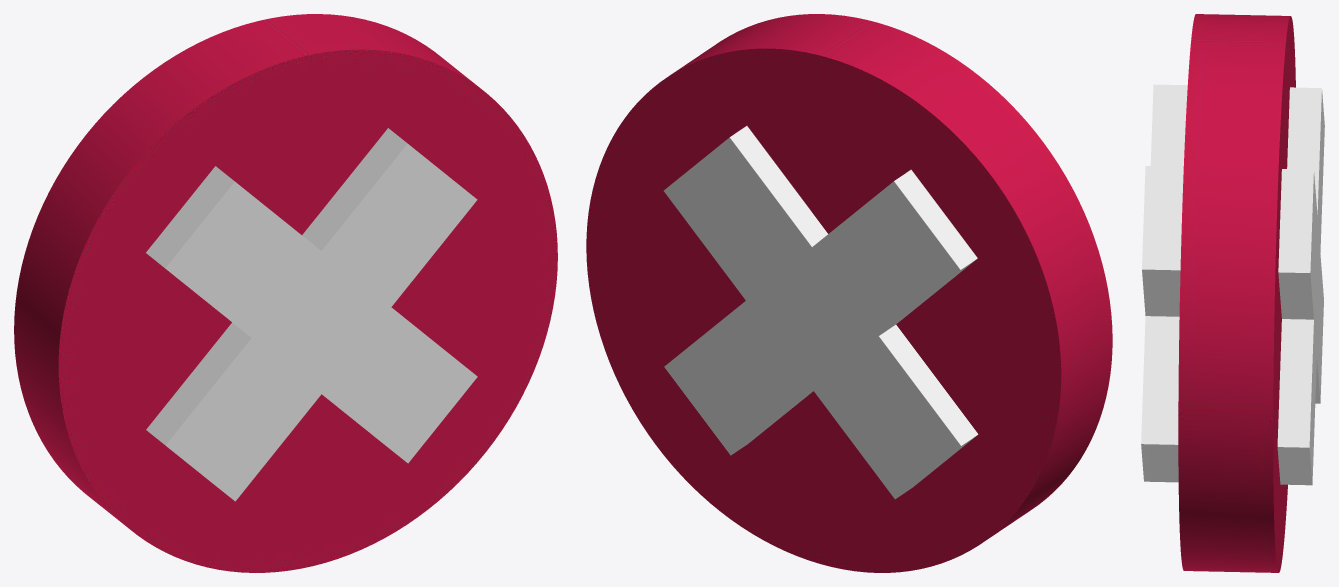
The model's file is close.glb.
3 renders of one model, left to right at view 1: azimuth 30°, elevation 25°; view 2: azimuth 150°, elevation 25°; view 3: azimuth 270°, elevation 25°, orthographic.
Visible parts, largest first — view 1: close; view 2: close; view 3: close.
Part boxes in pixels (<box>): close: <box>14,14,557,572</box>; close: <box>586,14,1112,572</box>; close: <box>1141,14,1324,572</box>.
Size of the model in its own units: 0.5986 by 0.5953 by 0.1963.
Materials: 1 (1 with a texture image).
